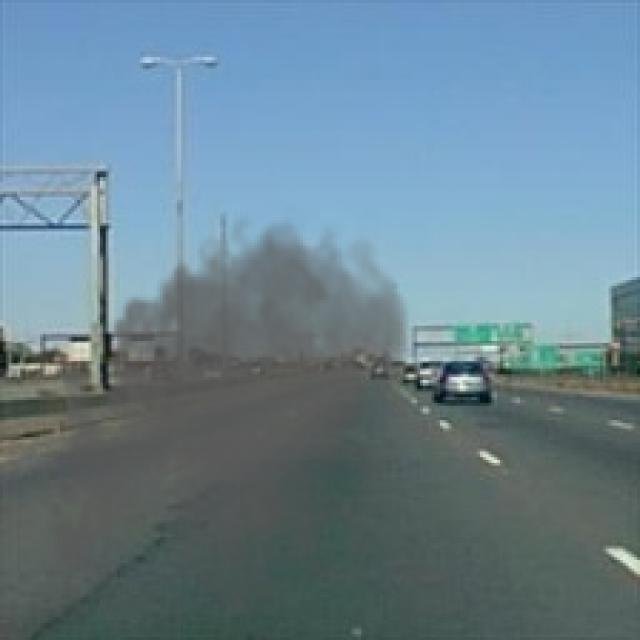smoke: (34, 203, 417, 614)
